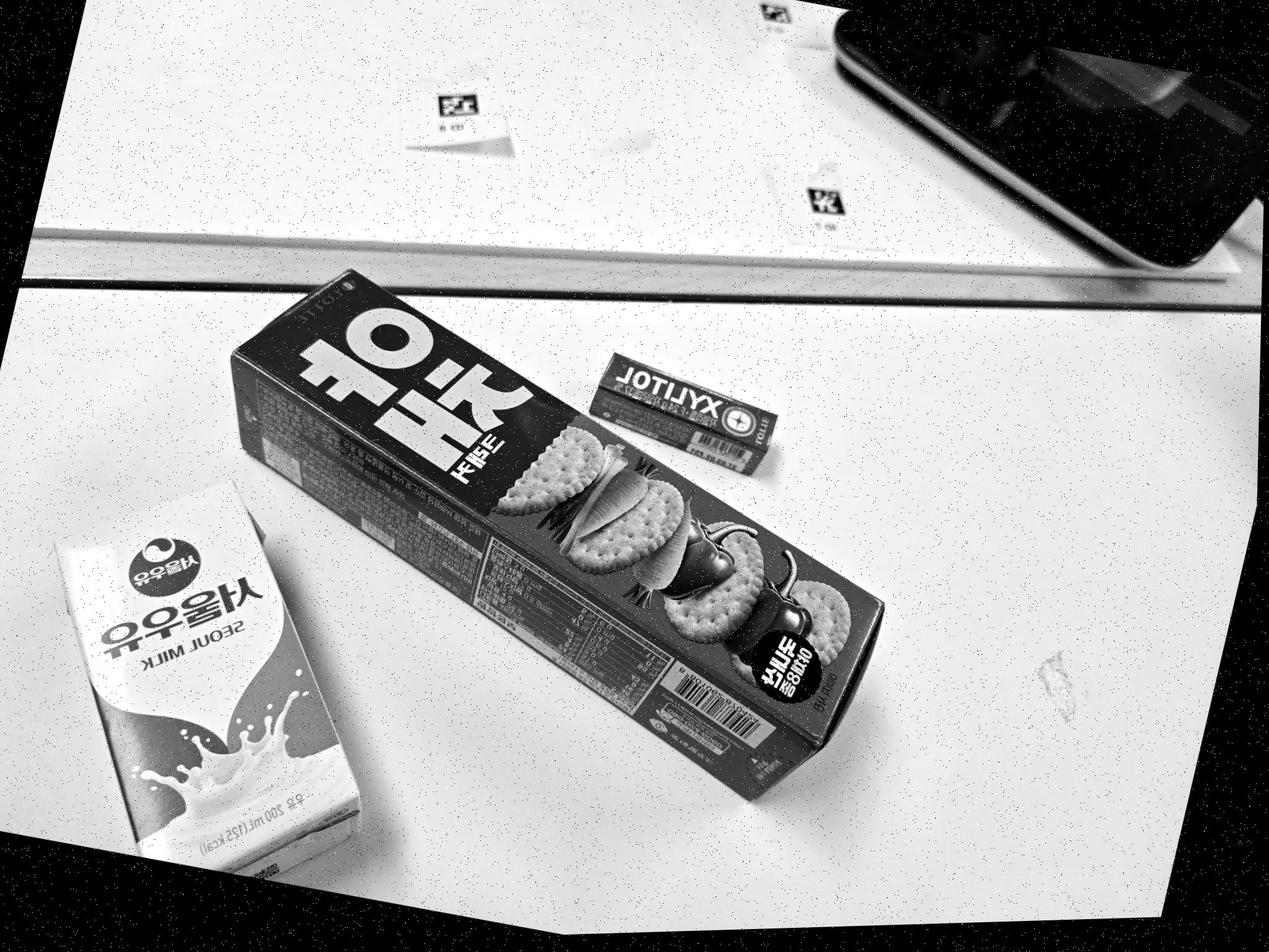cracker_vege: (232, 271, 884, 800)
gum_green: (590, 354, 777, 475)
milk_green: (56, 482, 360, 878)
